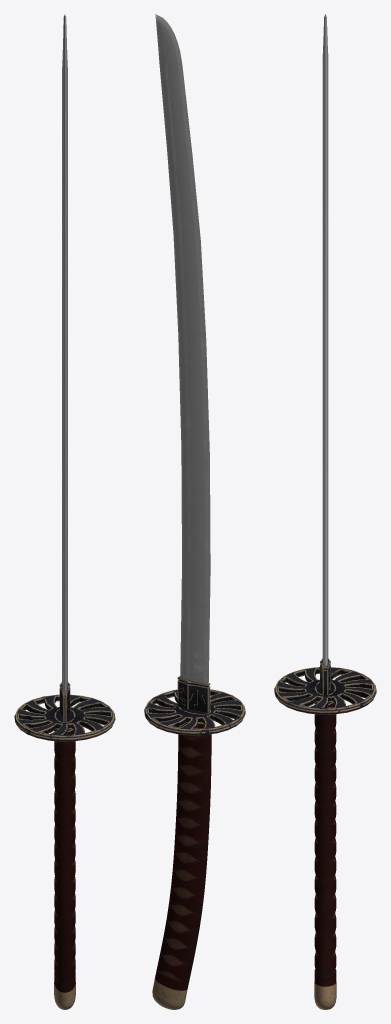
3 views of the same model, side by side, from view 1: azimuth 90°, elevation 25°; view 2: azimuth 150°, elevation 25°; view 3: azimuth 270°, elevation 25° (orthographic).
Visible parts, largest first — view 1: antique_katana_01; view 2: antique_katana_01; view 3: antique_katana_01.
Part boxes in pixels (left/top/right/bottom): antique_katana_01: left=14, top=14, right=115, bottom=1009; antique_katana_01: left=144, top=14, right=245, bottom=1009; antique_katana_01: left=274, top=14, right=376, bottom=1009.
Size of the model in its own units: 0.0934 by 1 by 0.0934.
1 material, 1 textured.
